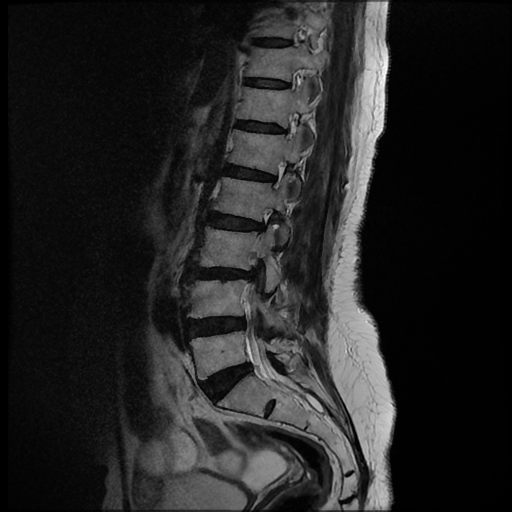RFS0: (263, 152, 294, 198)
